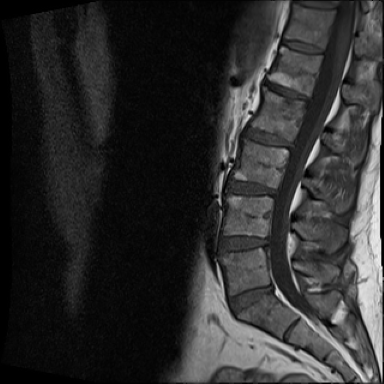Degenerative Disc Disease (DDD): (260, 77, 315, 106)
Lumbar Disc Bulge (LDB): (224, 277, 277, 325)
Normal IVD: (237, 122, 301, 155), (214, 173, 284, 203), (205, 228, 276, 256), (274, 32, 331, 58)
Spondylolisthesis: (209, 270, 297, 345)
